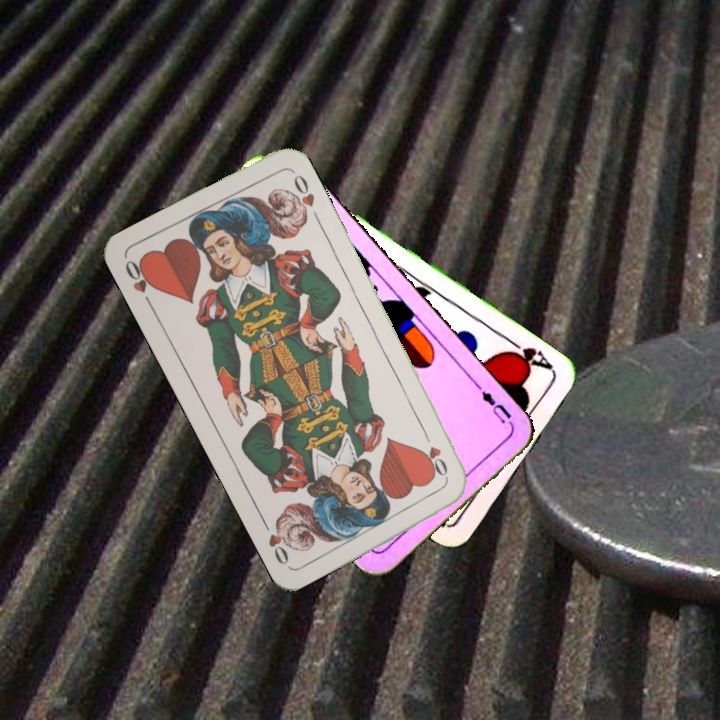EU: (473, 381, 514, 427)
HA: (500, 334, 556, 374)
HO: (121, 255, 157, 310), (419, 426, 451, 482)
